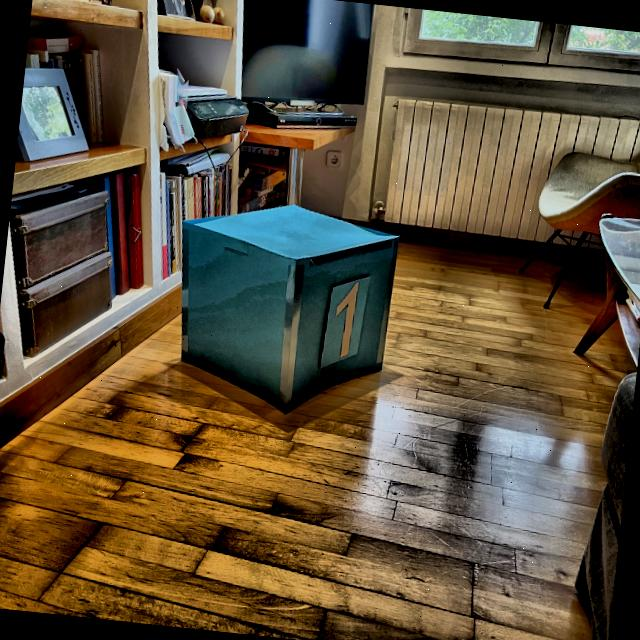blue box: (160, 188, 403, 426)
one: (330, 277, 362, 360)
